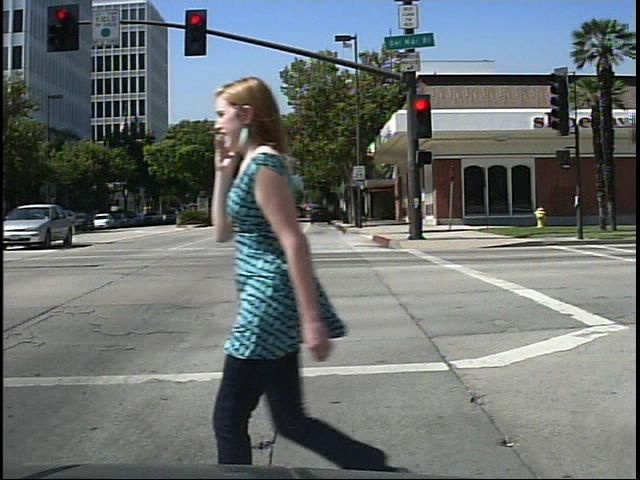person: (218, 77, 412, 480)
